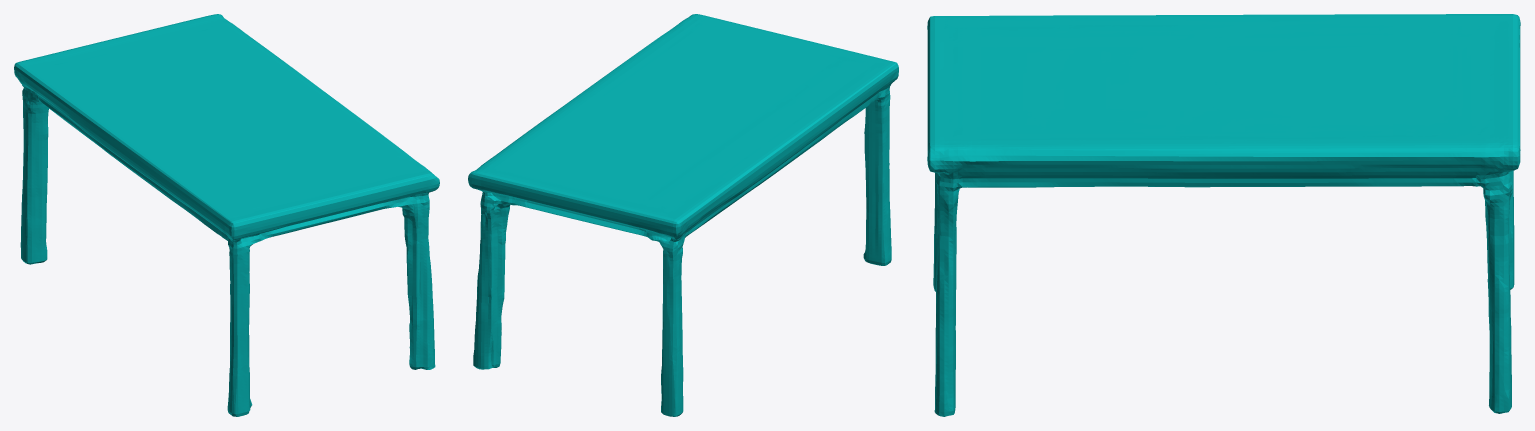
3 views of the same model, side by side, from view 1: azimuth 30°, elevation 25°; view 2: azimuth 150°, elevation 25°; view 3: azimuth 270°, elevation 25° (orthographic). The views are drawn at different scales.
Size of the model in its own units: 0.5536 by 0.5038 by 1.01.
